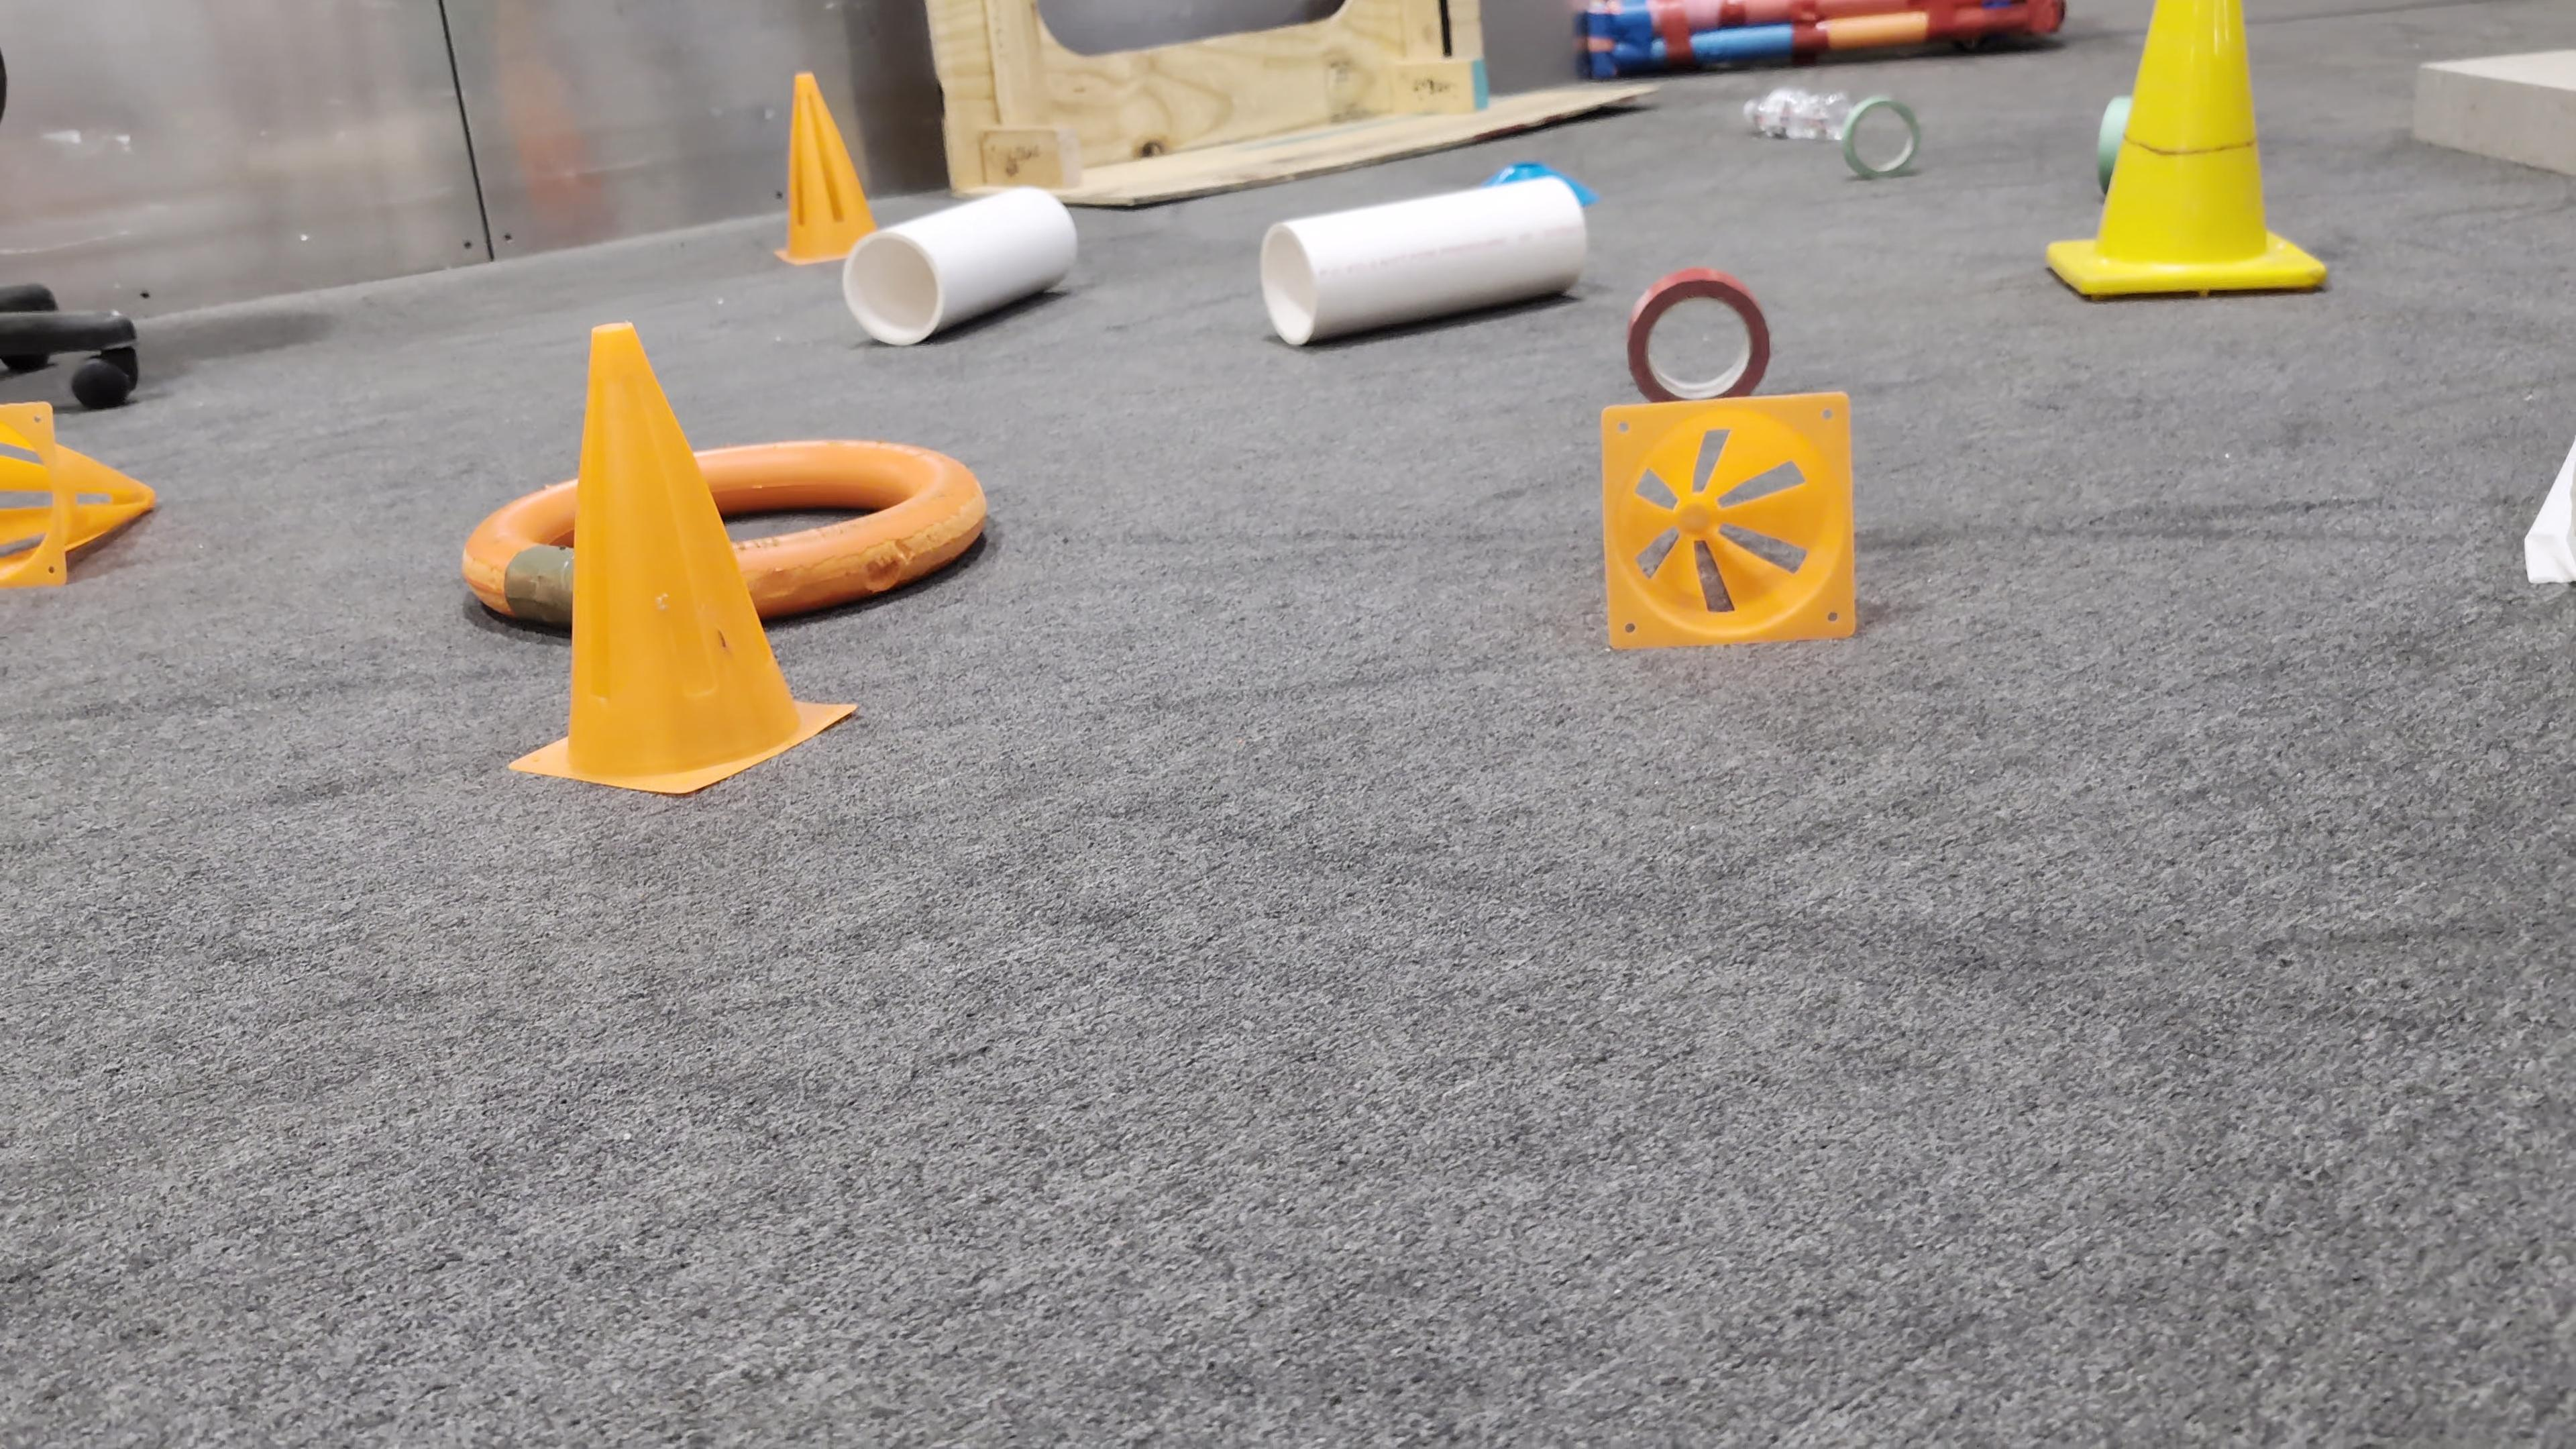coral: (1258, 168, 1592, 345), (842, 180, 1079, 343)
